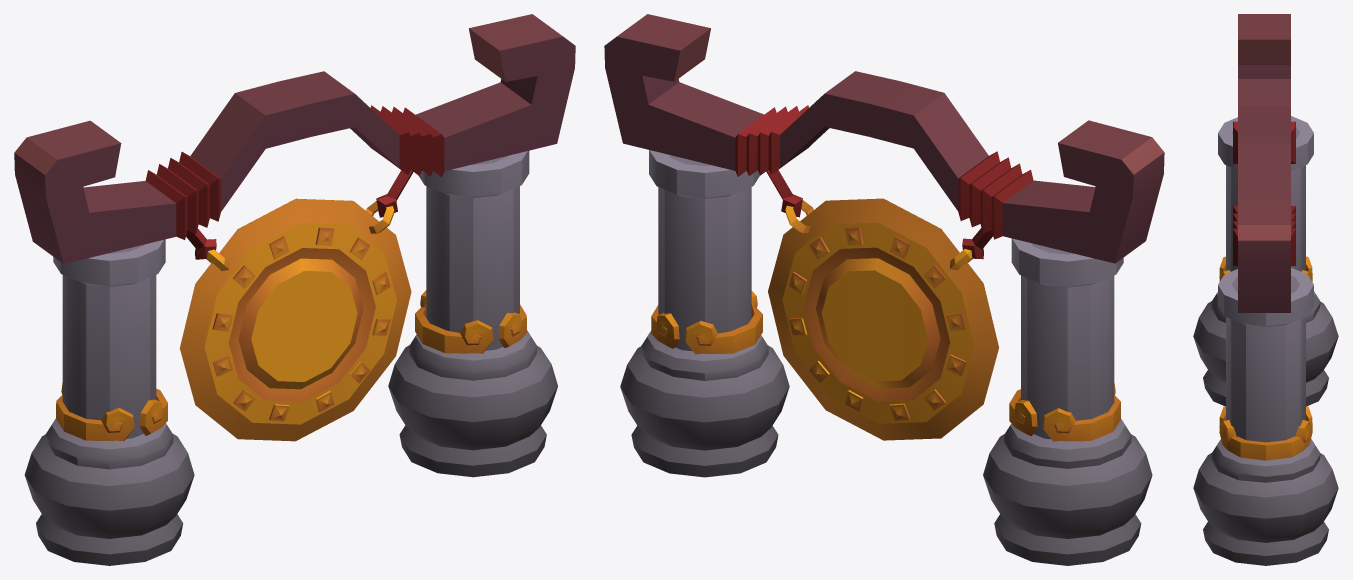
Rendered from gong.glb.
3 renders of one model, left to right at view 1: azimuth 30°, elevation 25°; view 2: azimuth 150°, elevation 25°; view 3: azimuth 270°, elevation 25°, orthographic. The views are drawn at different scales.
Parts seen in each view (by area): view 1: gong; view 2: gong; view 3: gong.
Boxes of the visible parts, x1,y1,x2,y2 form: gong: (14,14,575,565); gong: (604,14,1164,565); gong: (1193,14,1338,565).
Bounding box in the file's own units: 3.99 × 2.92 × 1.11.
Materials: 1 (1 with a texture image).
